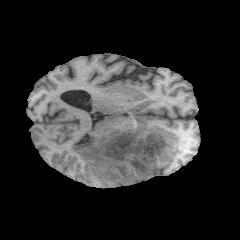glioma: (69, 126, 180, 185)
